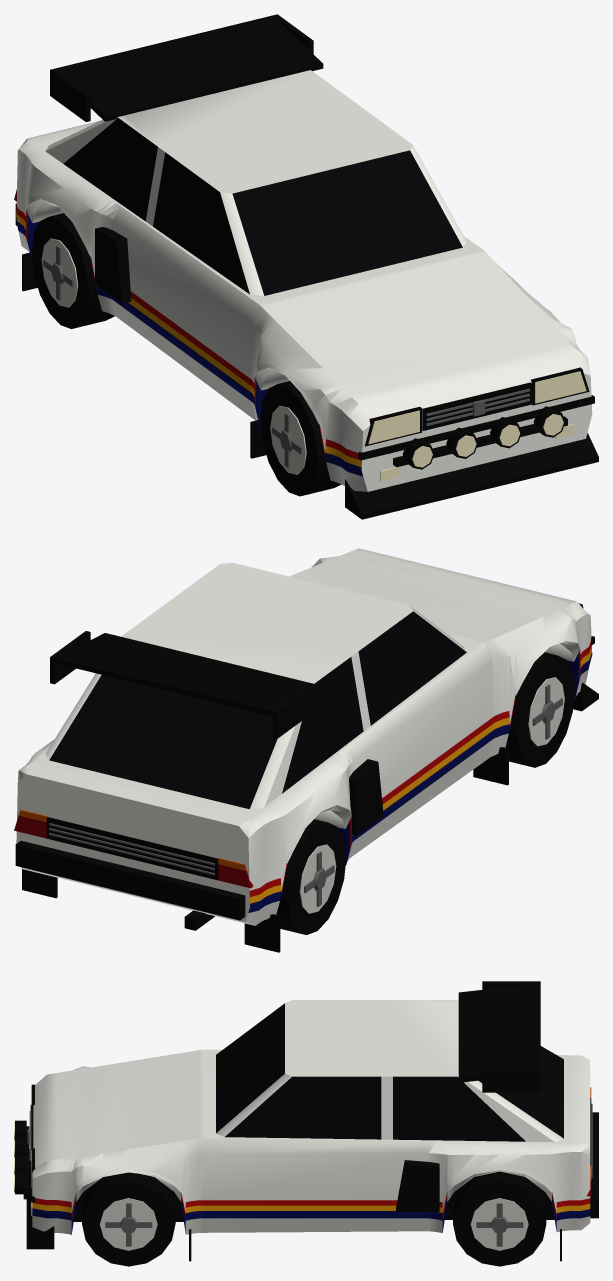
The model's file is peugeot-205-t16.glb.
3 views of the same model, one above another, from view 1: azimuth 30°, elevation 25°; view 2: azimuth 150°, elevation 25°; view 3: azimuth 270°, elevation 25° (orthographic). The views are drawn at different scales.
Parts seen in each view (by area): view 1: body, cabin, cabin-body, wing, splitter, wheel-back-right, wheel-front-right, body-blue, side-intake-right, grille, body-red, rub-strip (+7 smaller); view 2: body, cabin, cabin-body, wing, bumper-rear, wheel-back-right, wheel-front-right, tail-band, body-blue, side-intake-right, body-red, rim-front-right (+8 smaller); view 3: body, cabin, cabin-body, wing, wheel-back-left, wheel-front-left, body-blue, side-intake-left, body-red, rim-front-left, rim-back-left, body-yellow (+5 smaller).
Part boxes in pixels (left/top/right/bottom): body: left=16, top=120, right=592, bottom=491; cabin: left=63, top=118, right=462, bottom=295; cabin-body: left=45, top=70, right=466, bottom=295; wing: left=55, top=15, right=323, bottom=121; splitter: left=345, top=433, right=598, bottom=519; wheel-back-right: left=31, top=213, right=114, bottom=328; wheel-front-right: left=260, top=381, right=341, bottom=496; body-blue: left=16, top=215, right=363, bottom=476; side-intake-right: left=95, top=227, right=131, bottom=303; grille: left=422, top=382, right=532, bottom=430; body-red: left=16, top=204, right=361, bottom=460; rub-strip: left=358, top=395, right=594, bottom=460; body: left=16, top=548, right=591, bottom=925; cabin: left=49, top=611, right=466, bottom=809; cabin-body: left=45, top=562, right=466, bottom=809; wing: left=54, top=633, right=323, bottom=716; bumper-rear: left=15, top=840, right=245, bottom=920; wheel-back-right: left=276, top=819, right=346, bottom=934; wheel-front-right: left=505, top=652, right=574, bottom=767; tail-band: left=46, top=817, right=218, bottom=880; body-blue: left=248, top=652, right=592, bottom=912; side-intake-right: left=349, top=759, right=383, bottom=835; body-red: left=249, top=640, right=591, bottom=896; rim-front-right: left=528, top=677, right=564, bottom=746; body: left=32, top=1049, right=590, bottom=1234; cabin: left=216, top=1003, right=563, bottom=1141; cabin-body: left=216, top=1000, right=563, bottom=1142; wing: left=458, top=983, right=540, bottom=1082; wheel-back-left: left=453, top=1171, right=546, bottom=1266; wheel-front-left: left=82, top=1172, right=175, bottom=1266; body-blue: left=32, top=1196, right=590, bottom=1234; side-intake-left: left=396, top=1160, right=439, bottom=1211; body-red: left=32, top=1192, right=590, bottom=1220; rim-front-left: left=100, top=1198, right=157, bottom=1250; rim-back-left: left=470, top=1198, right=528, bottom=1250; body-yellow: left=32, top=1203, right=590, bottom=1213.
Size of the model in its own units: 1.7 by 1.43 by 4.01.
